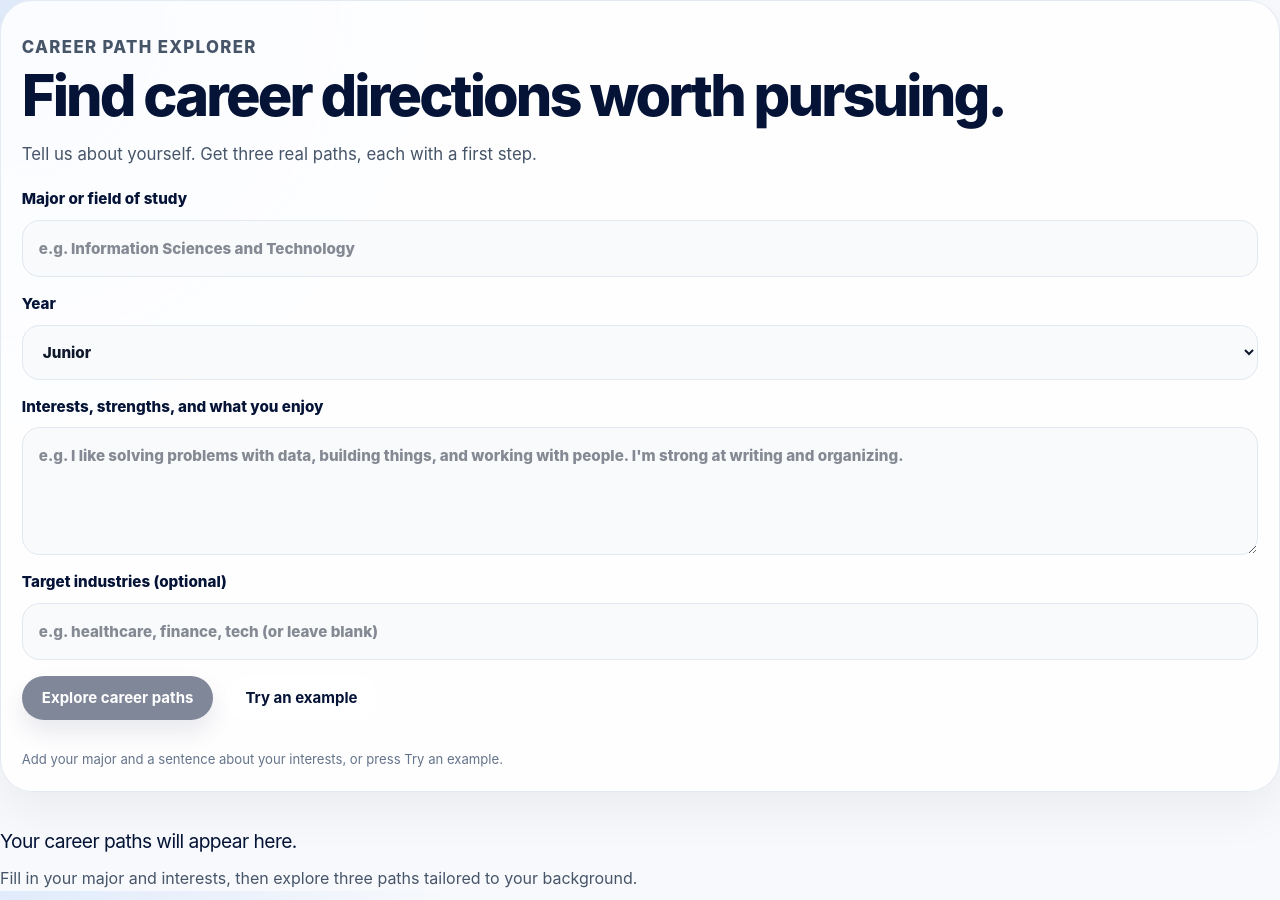
Test case: CareerPathClient › shows a loading state while the request is in flight
Type "Computer Science" into the field with placeholder "e.g. Information Sciences and Technology". click: (640, 248)
box: [22,220,1258,277]
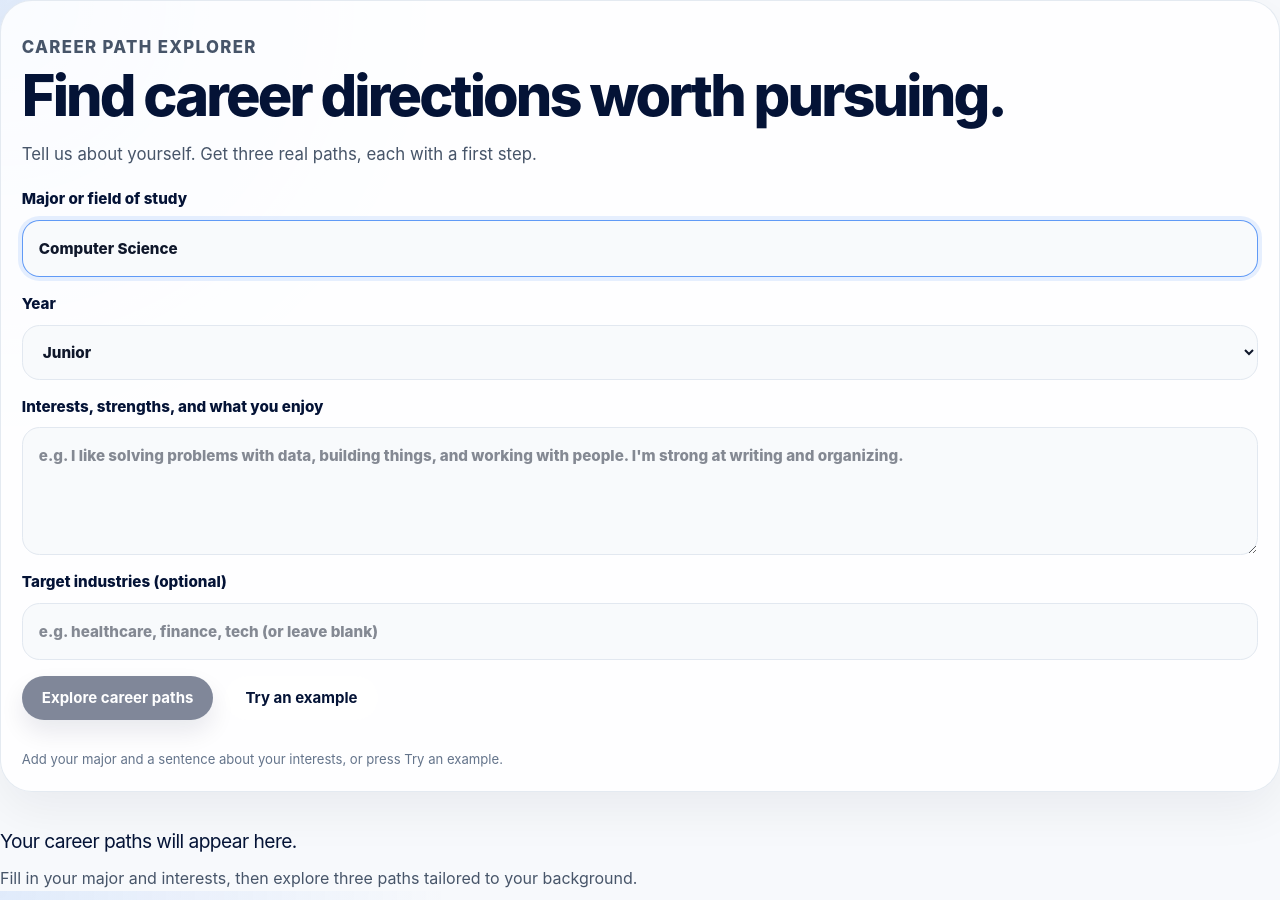
Type "backend systems and data" into the text box with placeholder "I like solving problems with data". click: (640, 491)
box: [22,427,1258,555]
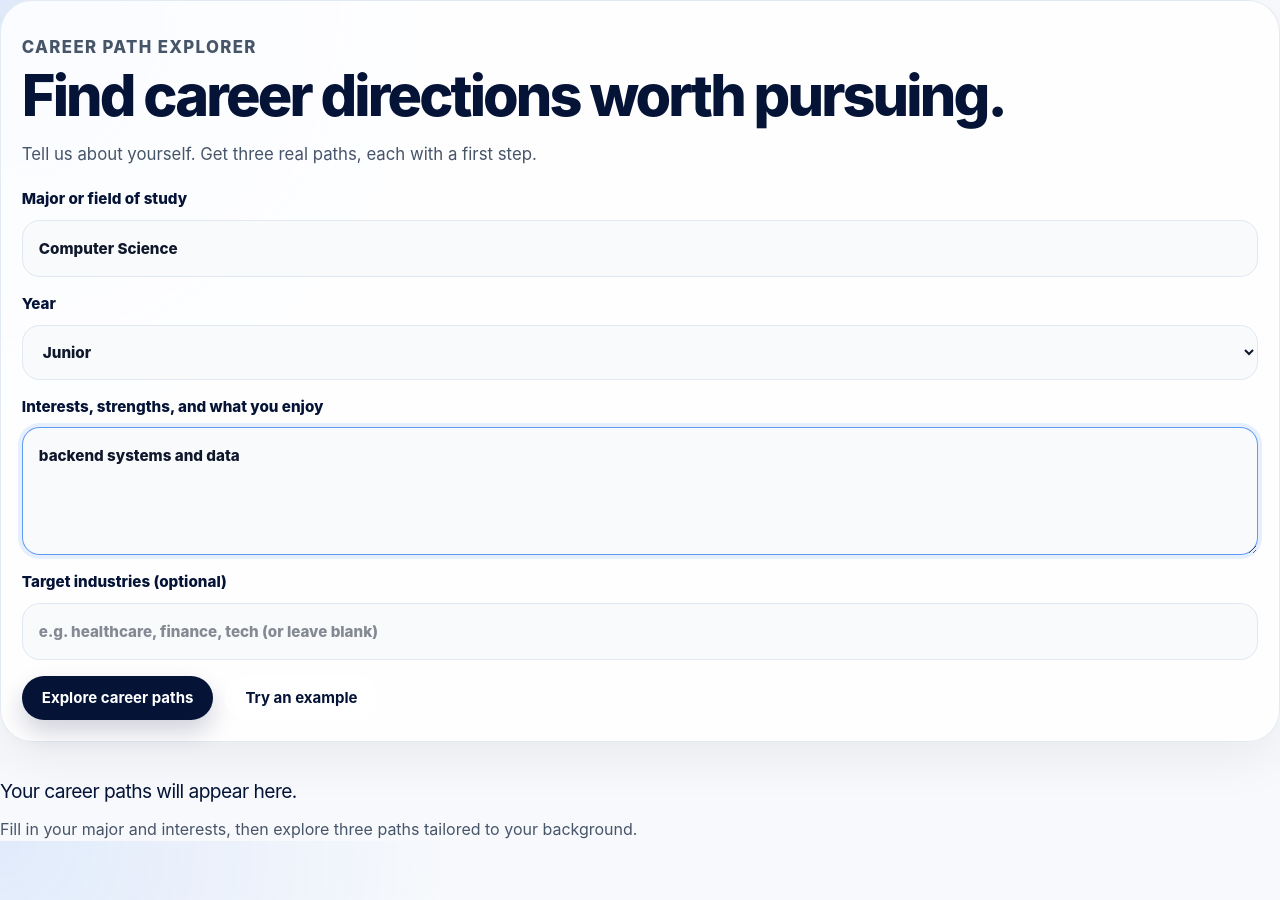
Click the button "Explore career paths". click: click(118, 698)
box: [22,676,213,720]
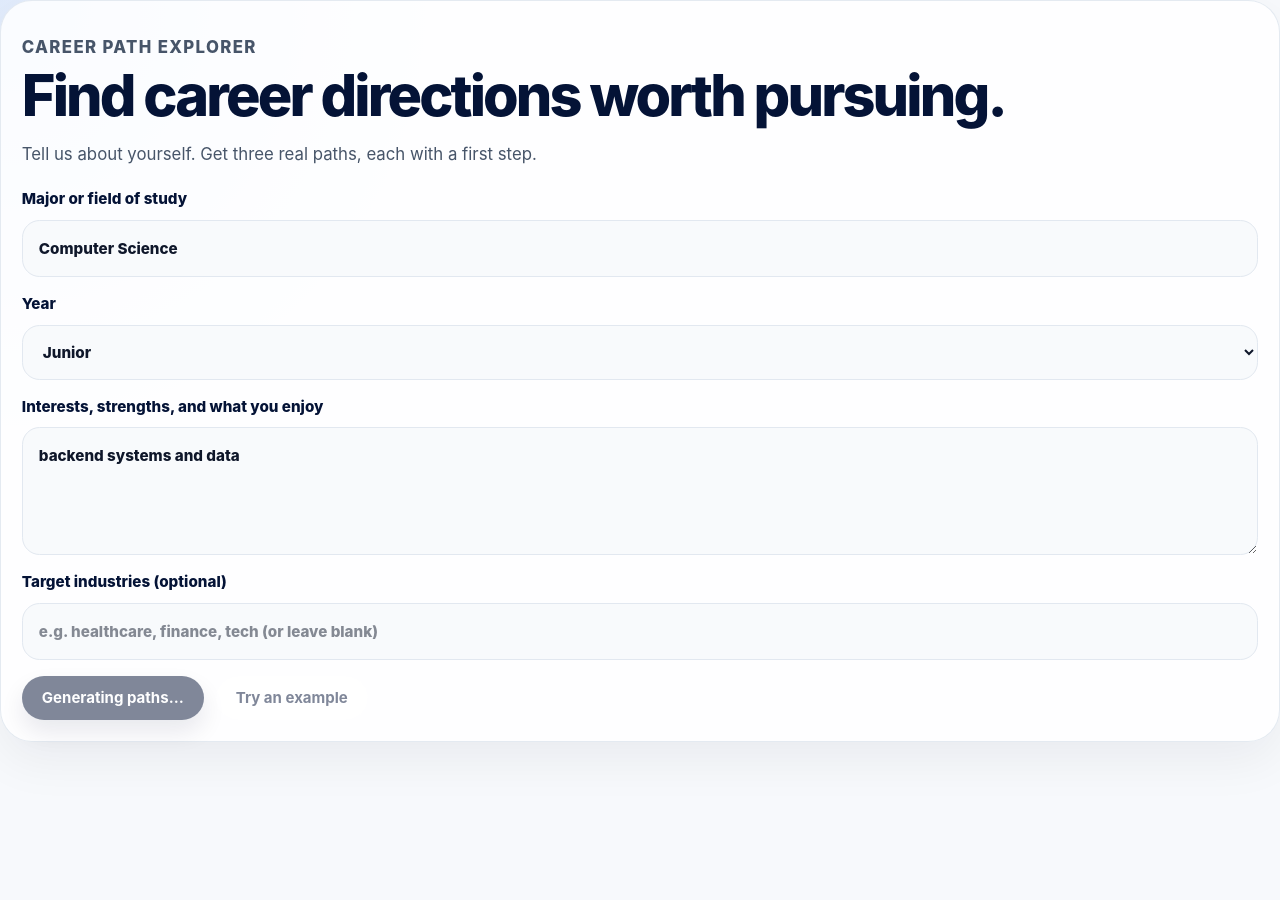
Now the button "Generating paths…" is disabled, box [22,676,204,720]
